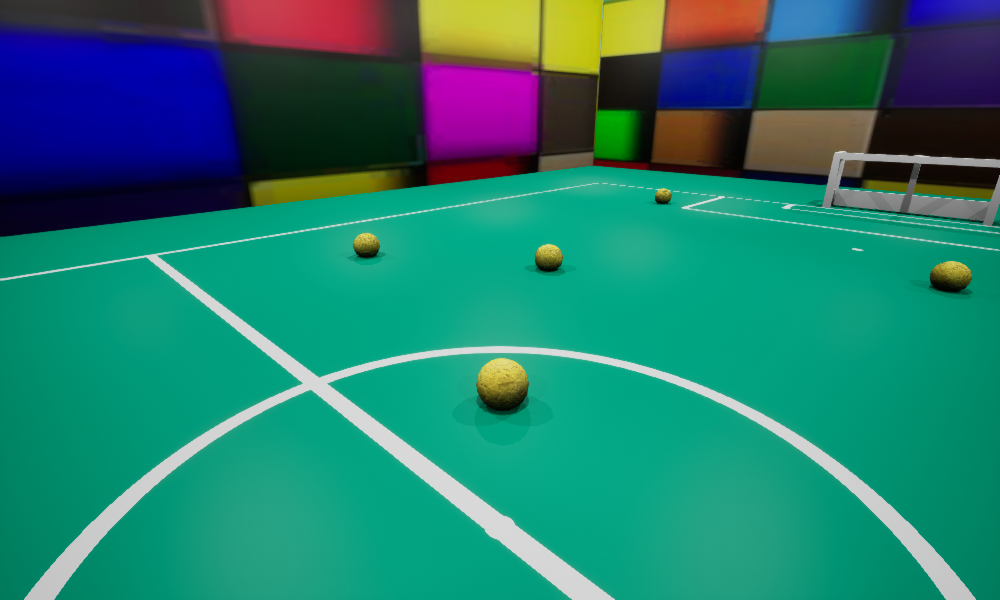b: (476, 358, 528, 409), (930, 261, 971, 291), (535, 244, 562, 270), (353, 233, 379, 257), (655, 188, 671, 203)
g: (822, 151, 999, 225)
